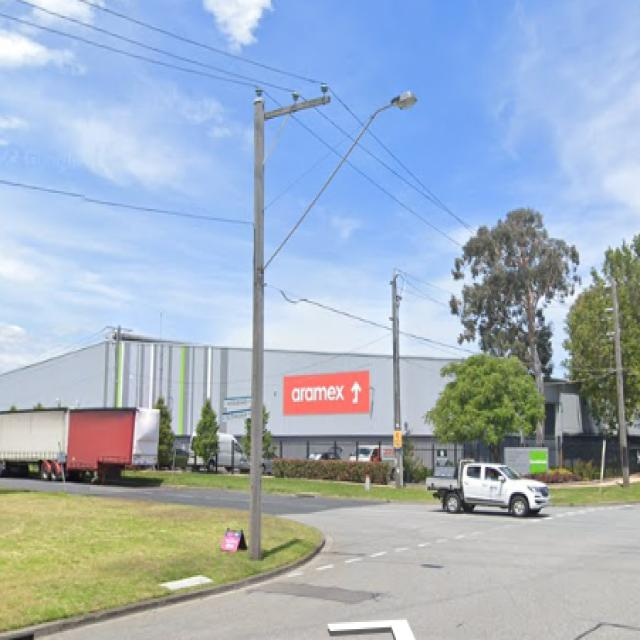crossarm: (255, 82, 330, 121)
streetlight: (263, 88, 419, 270)
timber-pole: (249, 88, 266, 562), (610, 278, 631, 489), (390, 274, 403, 488)
